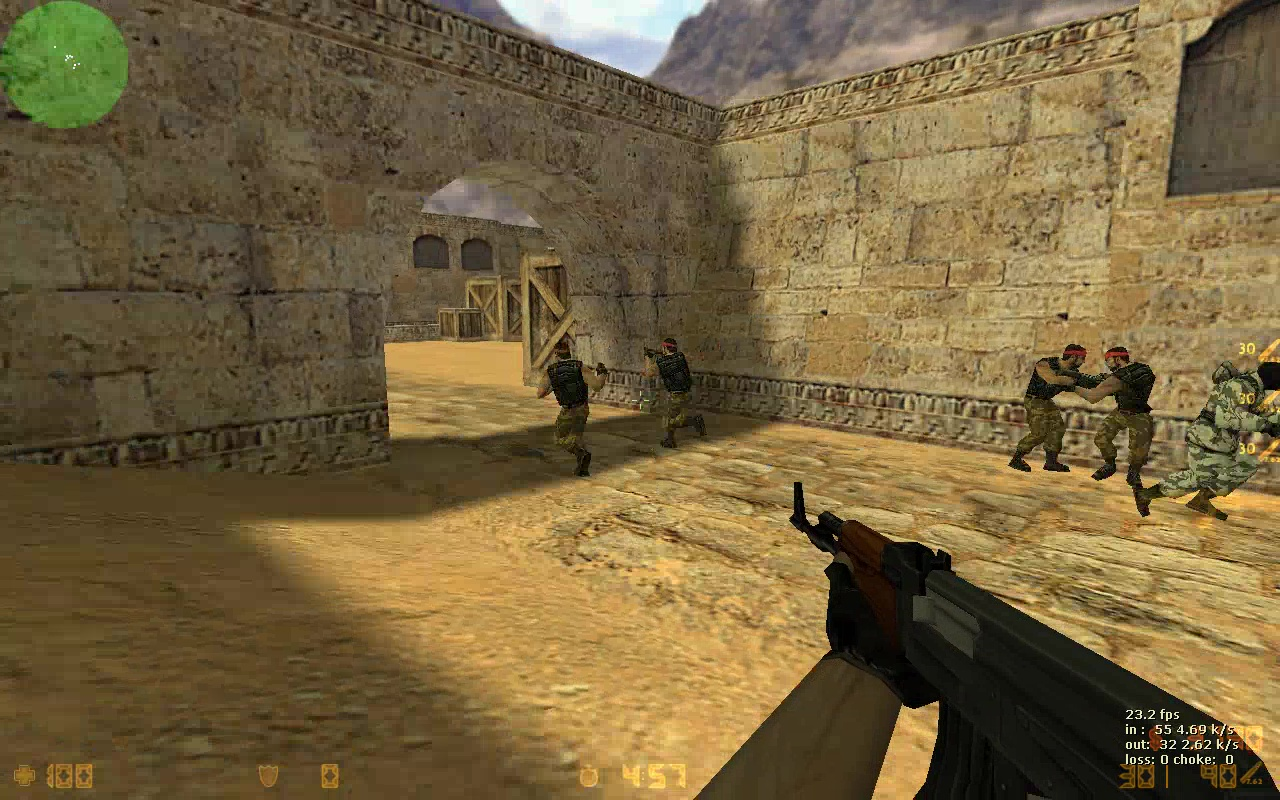terr1: (1070, 347, 1159, 491), (1010, 343, 1091, 479), (531, 341, 611, 475), (644, 335, 710, 447)
terr2: (1137, 341, 1280, 523)
